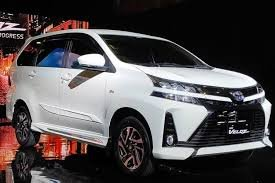mobil: (14, 30, 274, 169)
